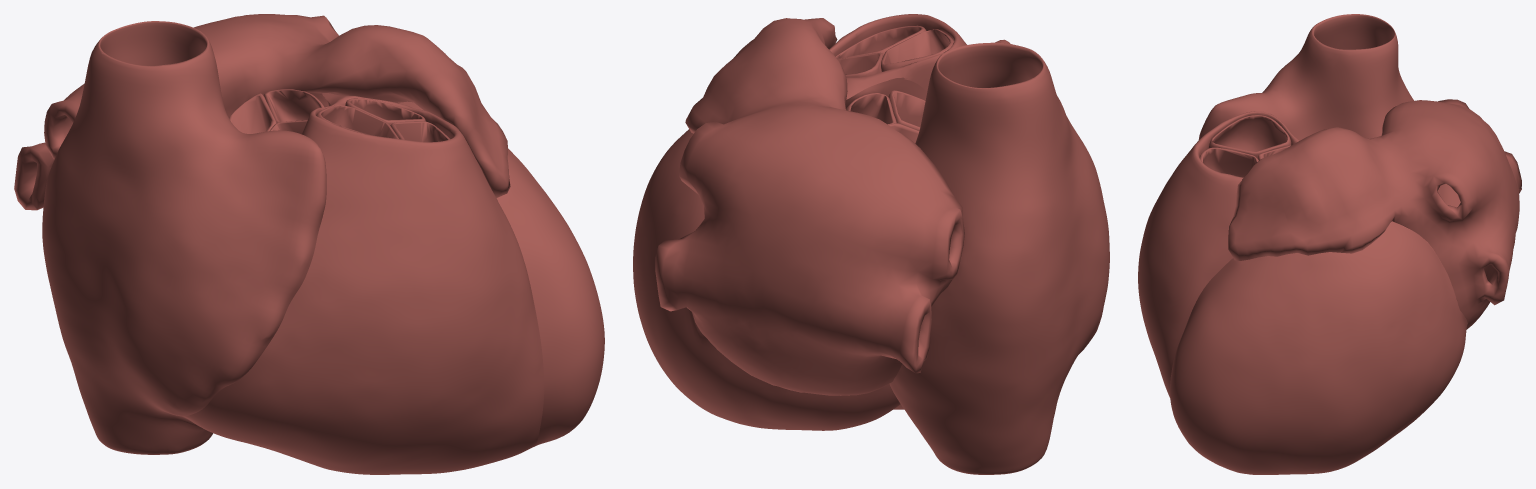
File: thorax-heart-balanced.glb
3 views of the same model, side by side, from view 1: azimuth 30°, elevation 25°; view 2: azimuth 150°, elevation 25°; view 3: azimuth 270°, elevation 25° (orthographic). The views are drawn at different scales.
Parts seen in each view (by area): view 1: organ.right-atrium, organ.right-ventricle, organ.left-atrium, organ.left-ventricle, organ.left-coronary-leaflet, organ.right-semilunar-leaflet-of-pulmonary-valve, organ.non-coronary-leaflet, organ.left-semilunar-leaflet-of-pulmonary-valve, organ.anterior-semilunar-leaflet-of-pulmonary-valve; view 2: organ.left-atrium, organ.right-atrium, organ.left-ventricle, organ.right-ventricle, organ.right-semilunar-leaflet-of-pulmonary-valve, organ.anterior-semilunar-leaflet-of-pulmonary-valve, organ.right-coronary-leaflet, organ.left-coronary-leaflet, organ.left-semilunar-leaflet-of-pulmonary-valve; view 3: organ.left-ventricle, organ.left-atrium, organ.right-atrium, organ.right-ventricle, organ.right-semilunar-leaflet-of-pulmonary-valve, organ.anterior-semilunar-leaflet-of-pulmonary-valve.
Boxes of the visible parts, box(x1,y1,x2,y2) form: organ.right-atrium: box(42, 21, 326, 454); organ.right-ventricle: box(184, 93, 544, 474); organ.left-atrium: box(14, 14, 510, 210); organ.left-ventricle: box(311, 94, 604, 446); organ.left-coronary-leaflet: box(264, 89, 324, 123); organ.right-semilunar-leaflet-of-pulmonary-valve: box(316, 105, 398, 138); organ.non-coronary-leaflet: box(229, 93, 276, 133); organ.left-semilunar-leaflet-of-pulmonary-valve: box(345, 98, 425, 125); organ.anterior-semilunar-leaflet-of-pulmonary-valve: box(390, 121, 449, 142); organ.left-atrium: box(655, 18, 964, 395); organ.right-atrium: box(889, 39, 1109, 474); organ.left-ventricle: box(633, 77, 927, 430); organ.right-ventricle: box(829, 14, 966, 409); organ.right-semilunar-leaflet-of-pulmonary-valve: box(881, 29, 954, 71); organ.anterior-semilunar-leaflet-of-pulmonary-valve: box(835, 25, 926, 59); organ.right-coronary-leaflet: box(888, 90, 925, 130); organ.left-coronary-leaflet: box(846, 93, 896, 124); organ.left-semilunar-leaflet-of-pulmonary-valve: box(837, 52, 883, 77); organ.left-ventricle: box(1170, 221, 1467, 474); organ.left-atrium: box(1228, 99, 1521, 329); organ.right-atrium: box(1198, 14, 1413, 221); organ.right-ventricle: box(1138, 111, 1299, 397); organ.right-semilunar-leaflet-of-pulmonary-valve: box(1209, 115, 1291, 159); organ.anterior-semilunar-leaflet-of-pulmonary-valve: box(1200, 147, 1258, 177).
Size of the model in its own units: 0.1191 by 0.108 by 0.1129.
